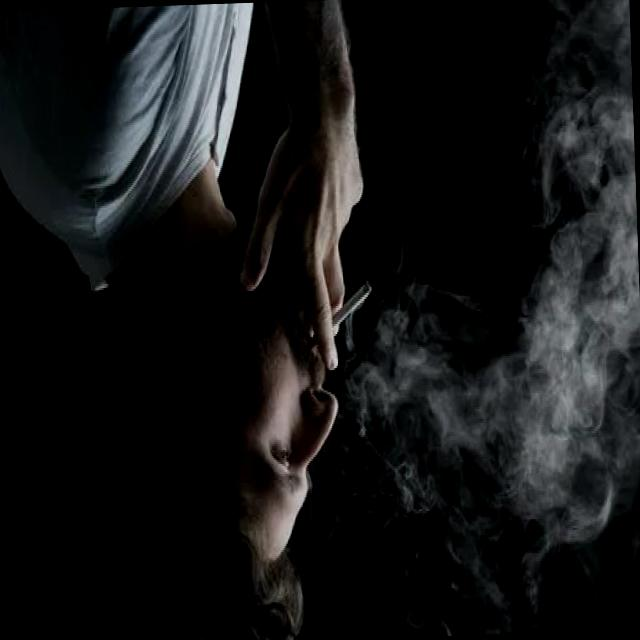cigarette: (308, 272, 376, 354)
